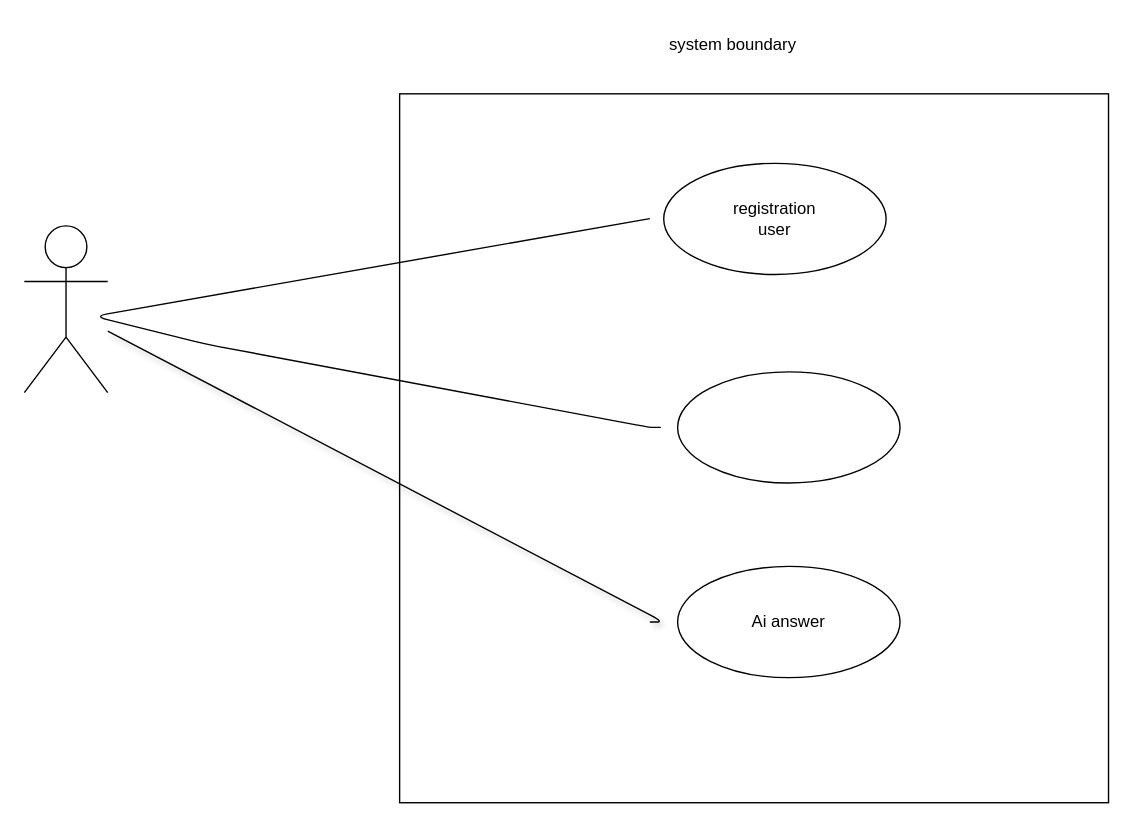
Image size: 1133x827. Some labels were removed from this diagram. Here are the shapes that lost their labels. From the top down, the centre of each, then its label:
(65,308): user
(788,426): sending user query
